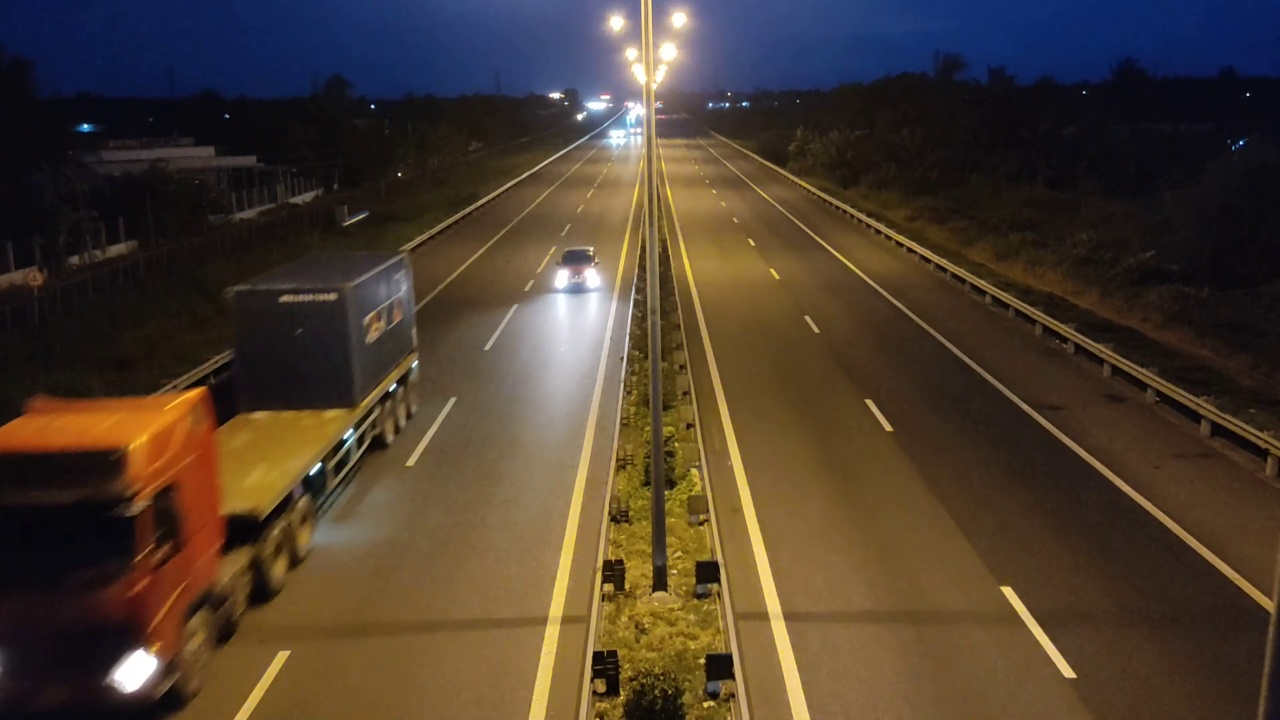car: (552, 236, 603, 295)
truck: (1, 248, 423, 715)
